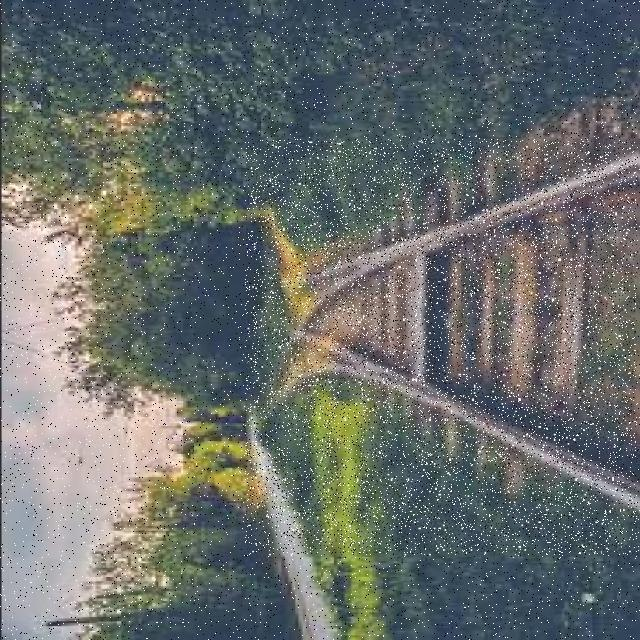rail: (246, 141, 638, 556)
